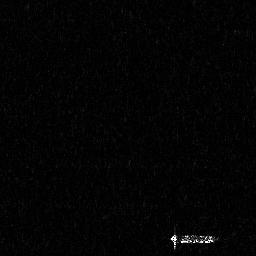ship: (167, 226, 221, 251)
